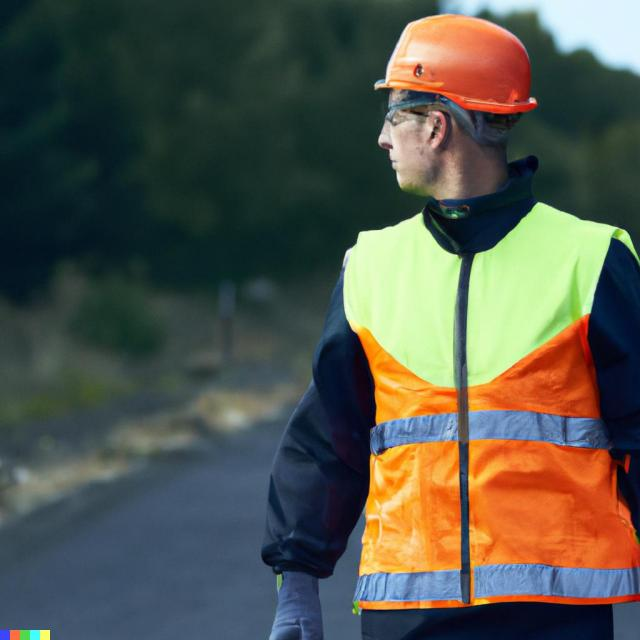Reflective-Jacket: (338, 201, 640, 623)
Safety-Helmet: (372, 9, 540, 119)
